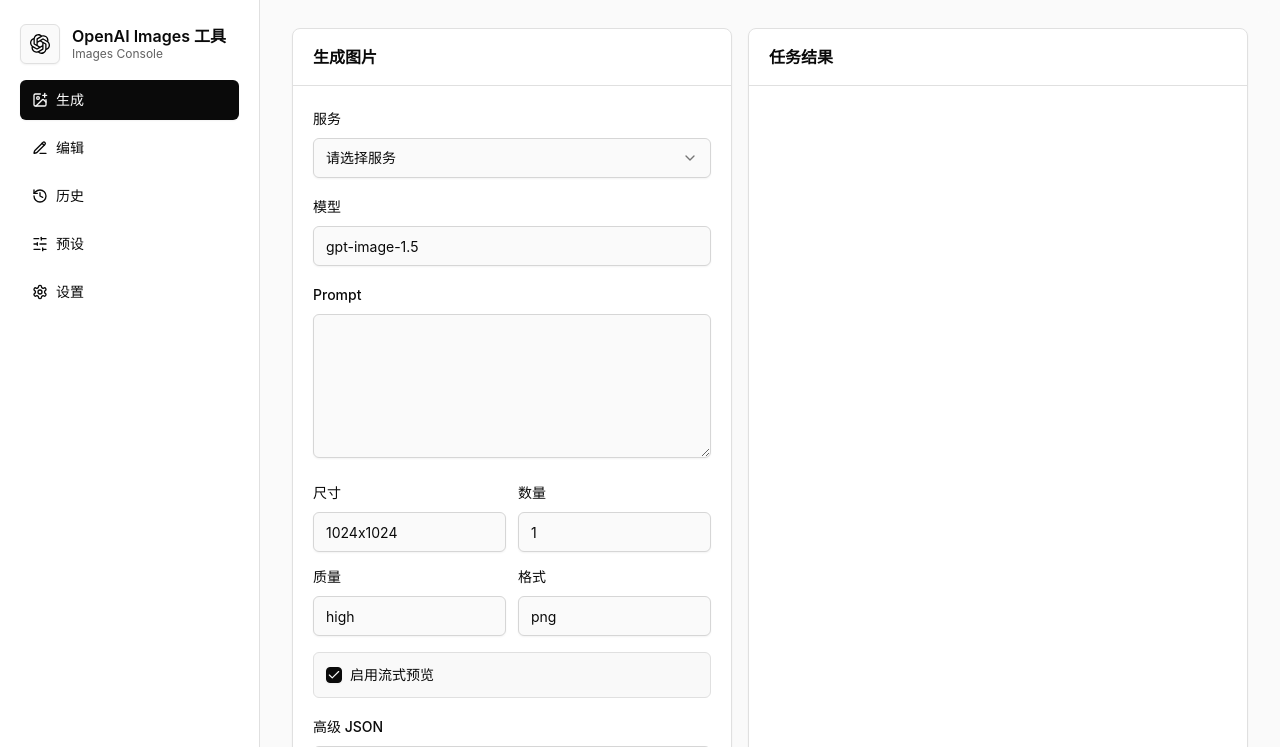
Test: 应用壳冒烟测试 › 渲染导航并可切换主要页面
This screenshot has width=1280, height=747.
Expected: the heading "OpenAI Images 工具" is shown, [72,26,226,46]
Click the button "设置".
click(130, 292)  # box [20,272,239,312]
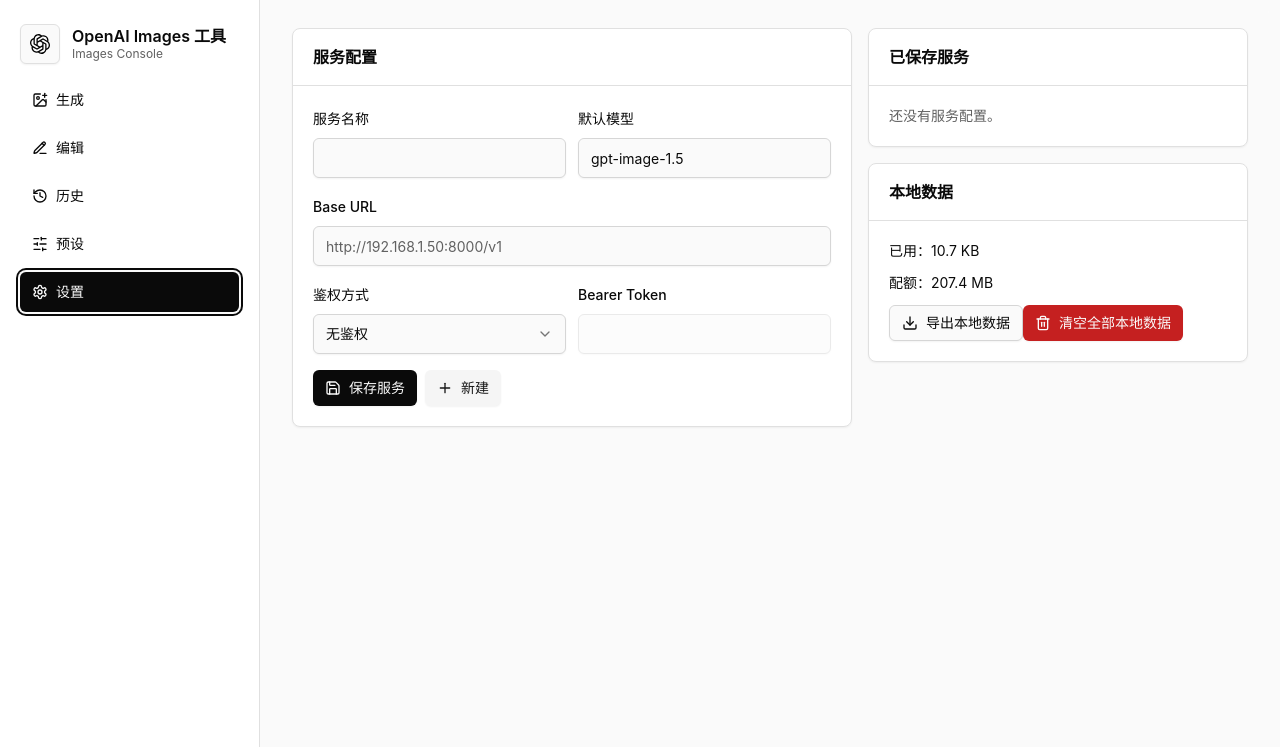
Expected: the heading "服务配置" is shown, [313,47,377,67]
Click the button "编辑".
click(130, 148)  # box [20,128,239,168]
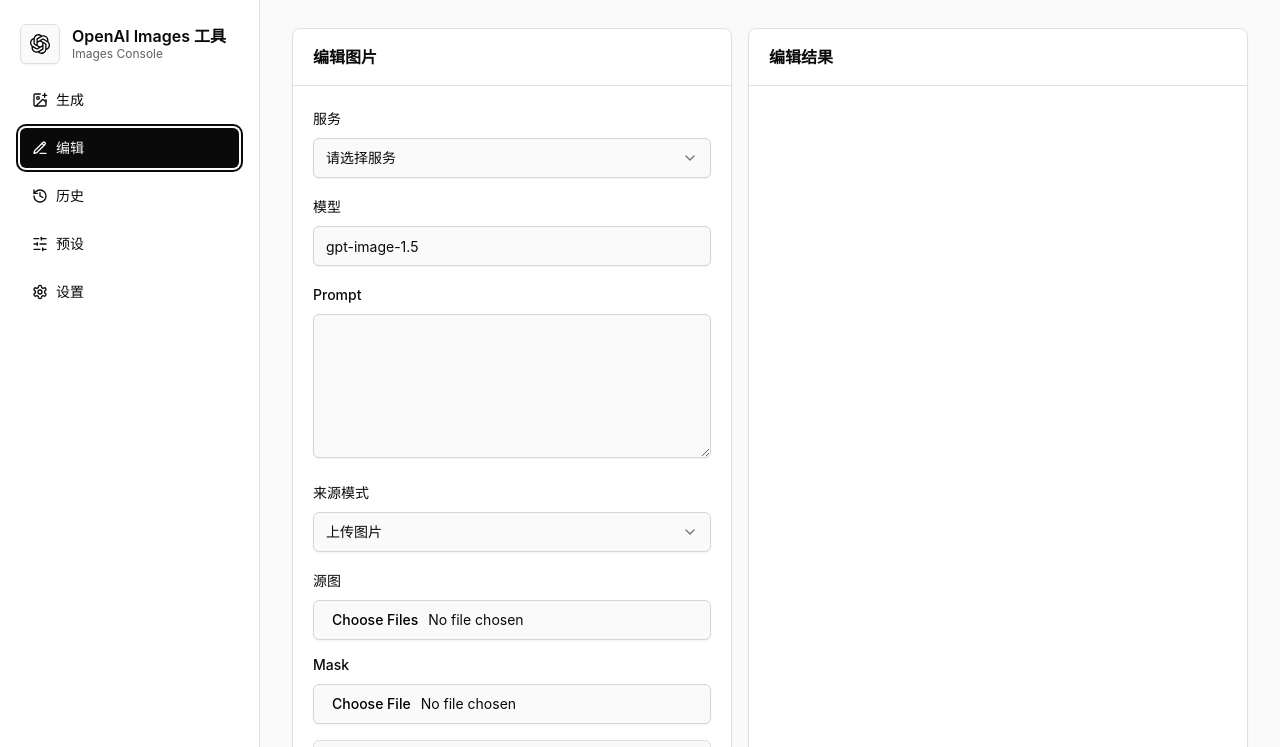
Expected: the heading "编辑图片" is shown, [313,47,377,67]
Click the button "历史".
click(130, 196)  # box [20,176,239,216]
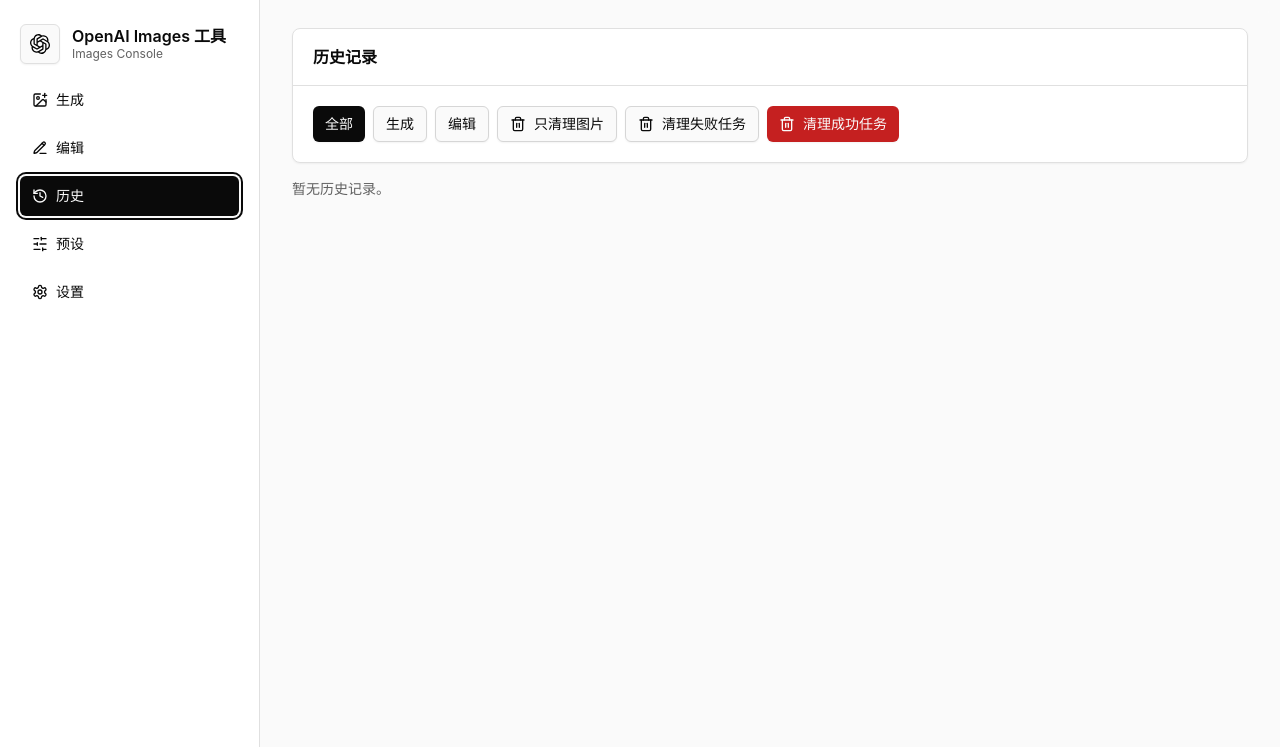
Expected: the heading "历史记录" is shown, [313,47,377,67]
